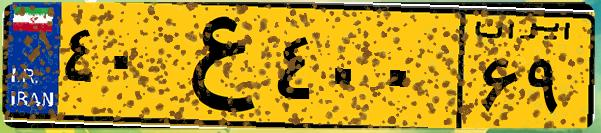0: (385, 28, 445, 110), (330, 28, 385, 110), (110, 28, 158, 98)
4: (270, 28, 330, 110), (57, 26, 110, 100)
6: (475, 38, 525, 113)
9: (525, 38, 570, 115)
ع: (158, 12, 270, 120)
